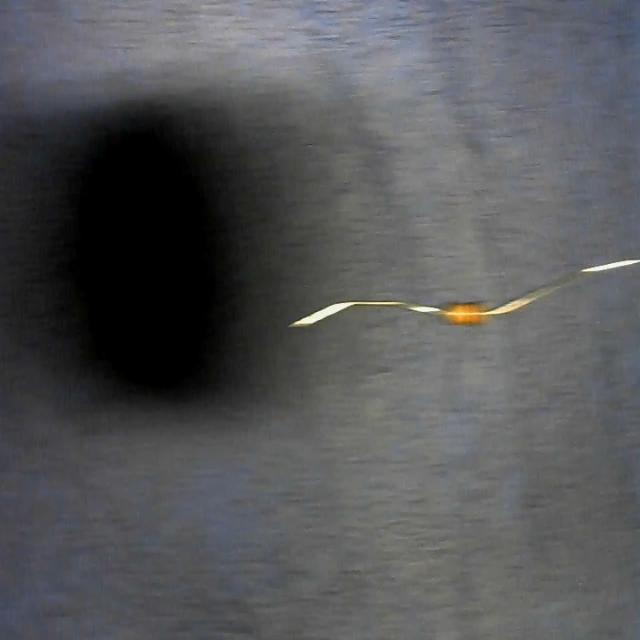resistor: (298, 266, 640, 335)
